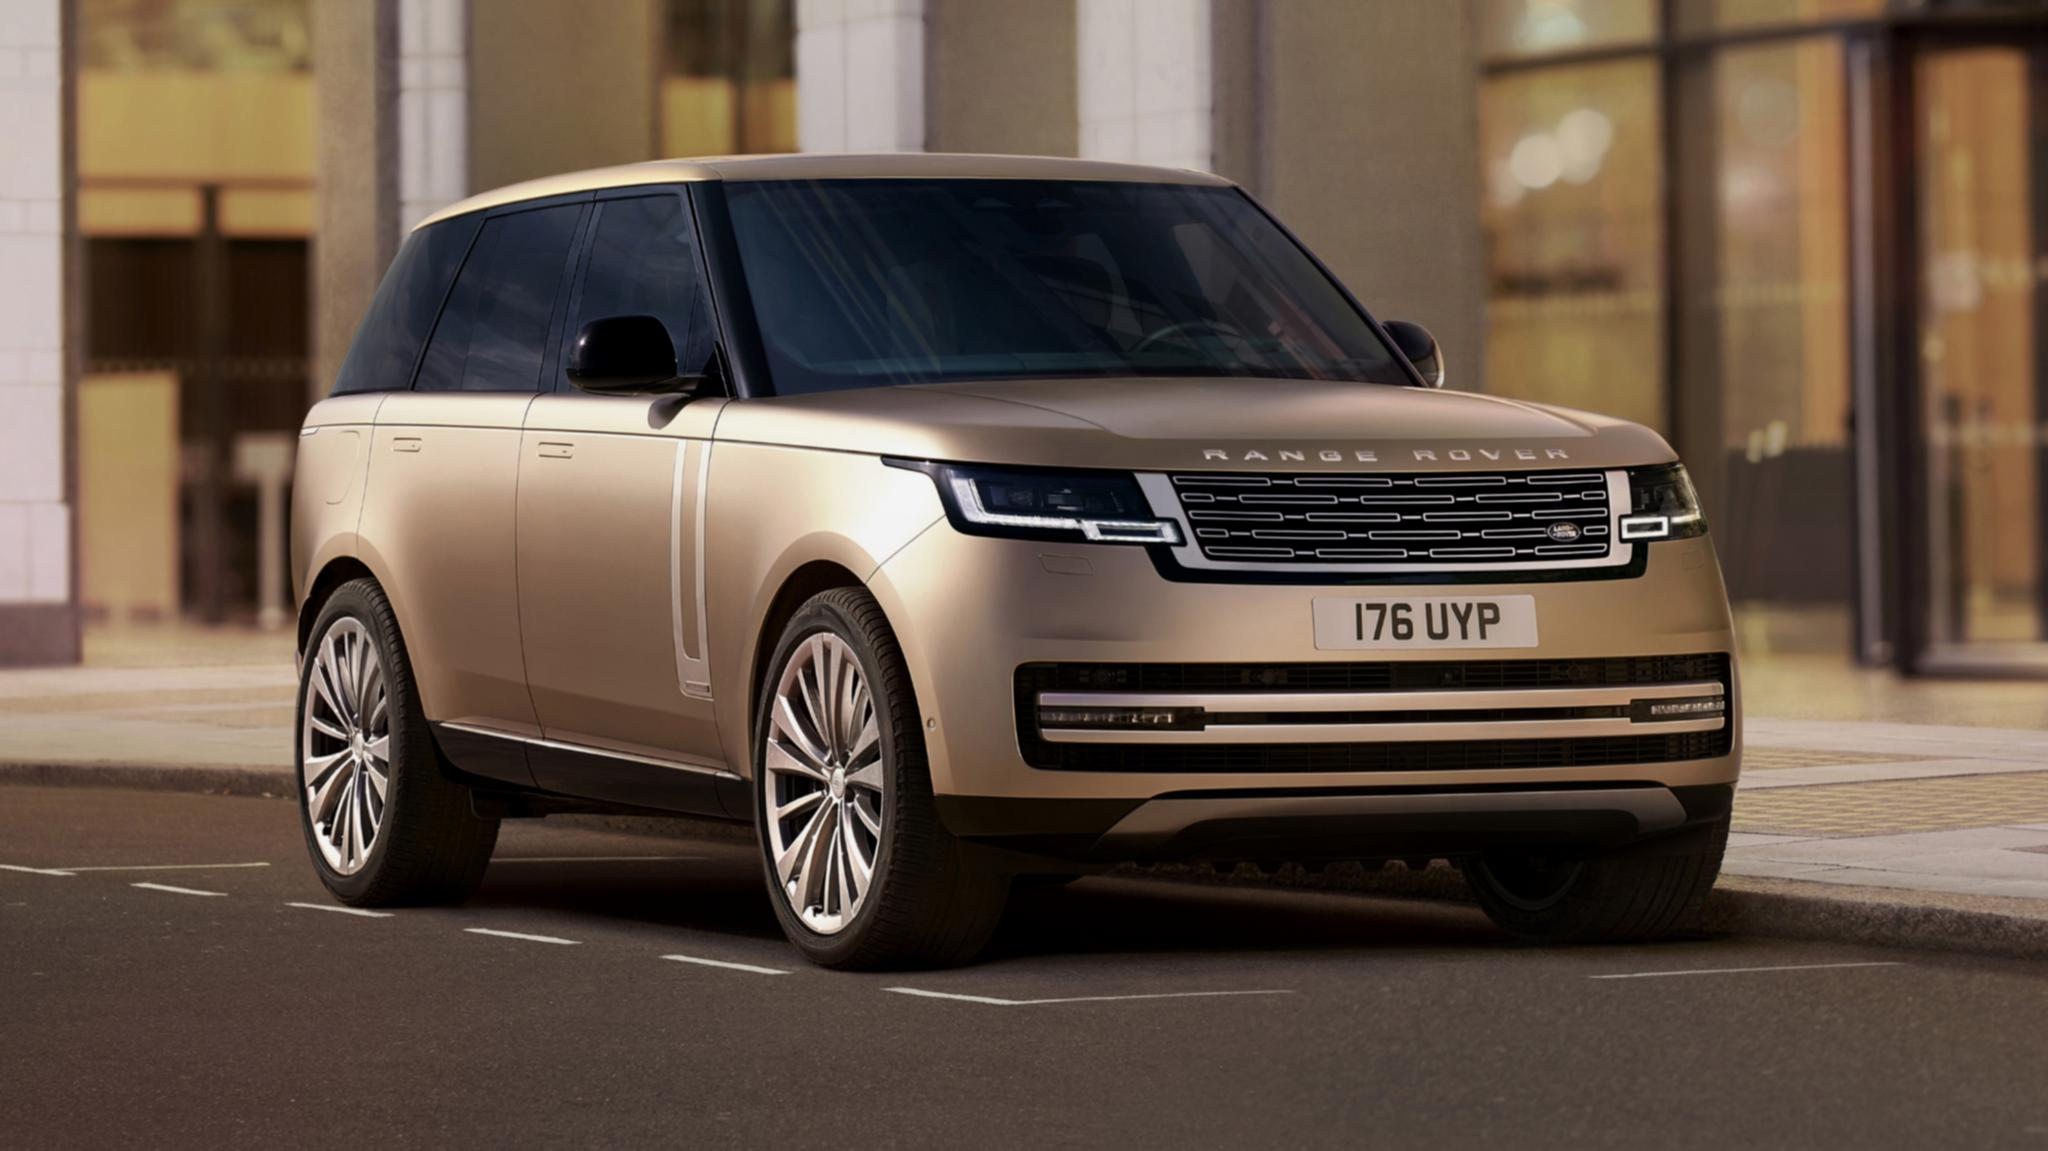range rover: (1198, 431, 1582, 480)
